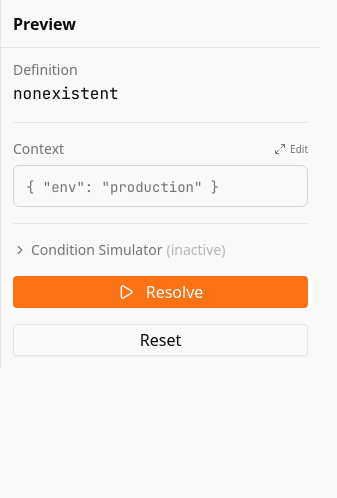
PreviewPanel › should show error when no definition is selected and resolve is forced
Click the button "Resolve". click: coordinates (160, 292)
box: left=13, top=276, right=308, bottom=308
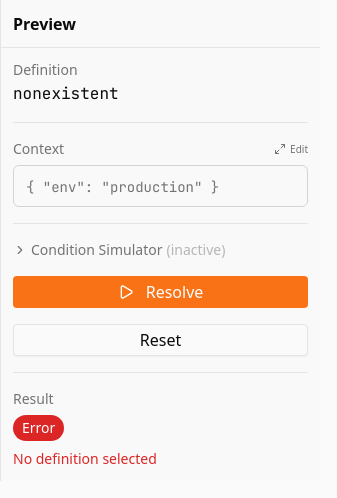
Expected: the text "No definition selected" is shown, left=13, top=449, right=157, bottom=468
